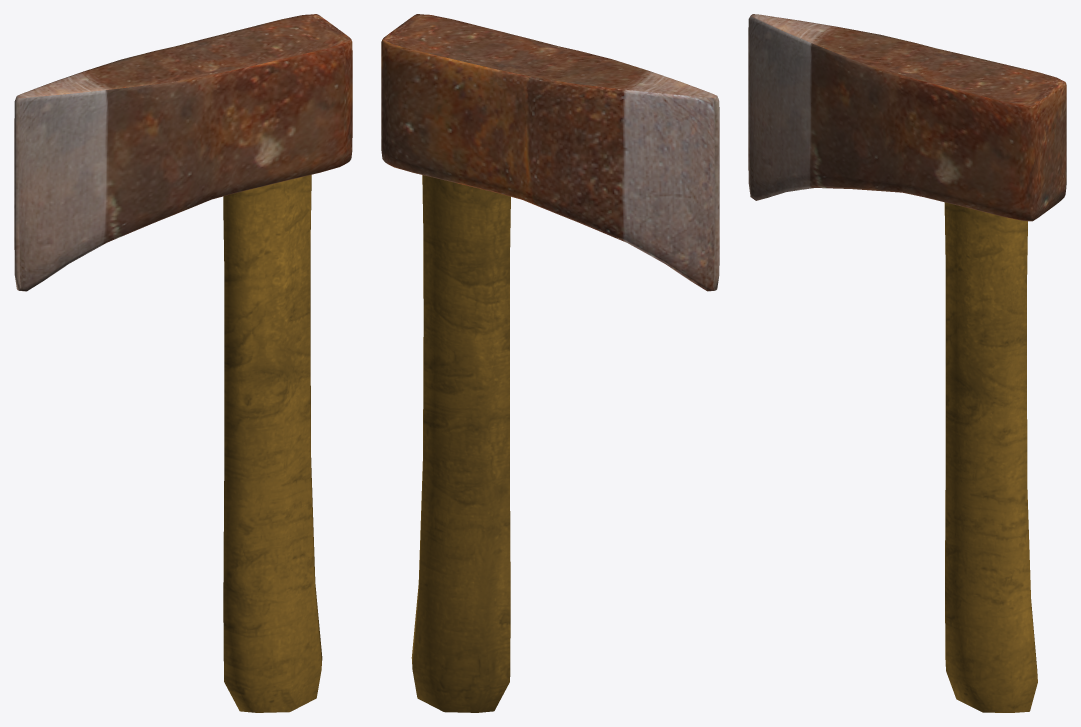
Rendered from macchado 1.fbx.
3 views of the same model, side by side, from view 1: azimuth 30°, elevation 25°; view 2: azimuth 150°, elevation 25°; view 3: azimuth 330°, elevation 25° (orthographic). The views are drawn at different scales.
Visible parts, largest first — view 1: Cube; view 2: Cube; view 3: Cube.
Part boxes in pixels (box(x1,y1,x2,y2)): Cube: box(14, 14, 352, 712); Cube: box(381, 14, 719, 712); Cube: box(748, 14, 1066, 712).
Bounding box in the file's own units: 190 × 384 × 44.53.
